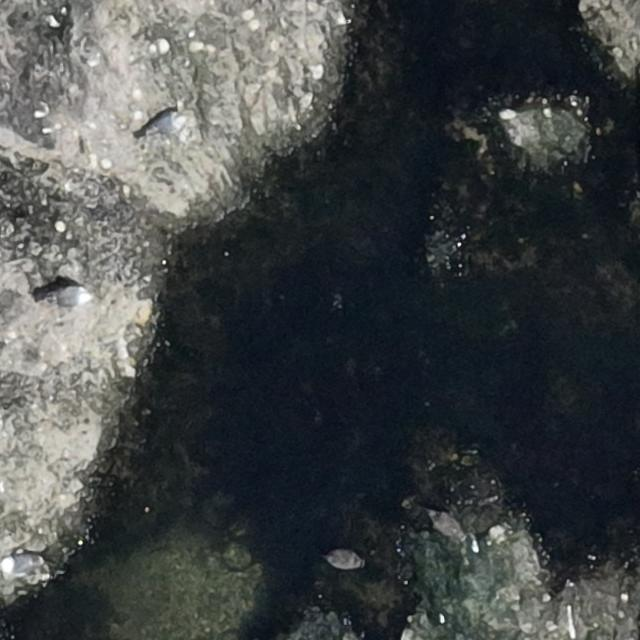umineko: (48, 284, 94, 307), (146, 114, 182, 134), (3, 555, 39, 573)
